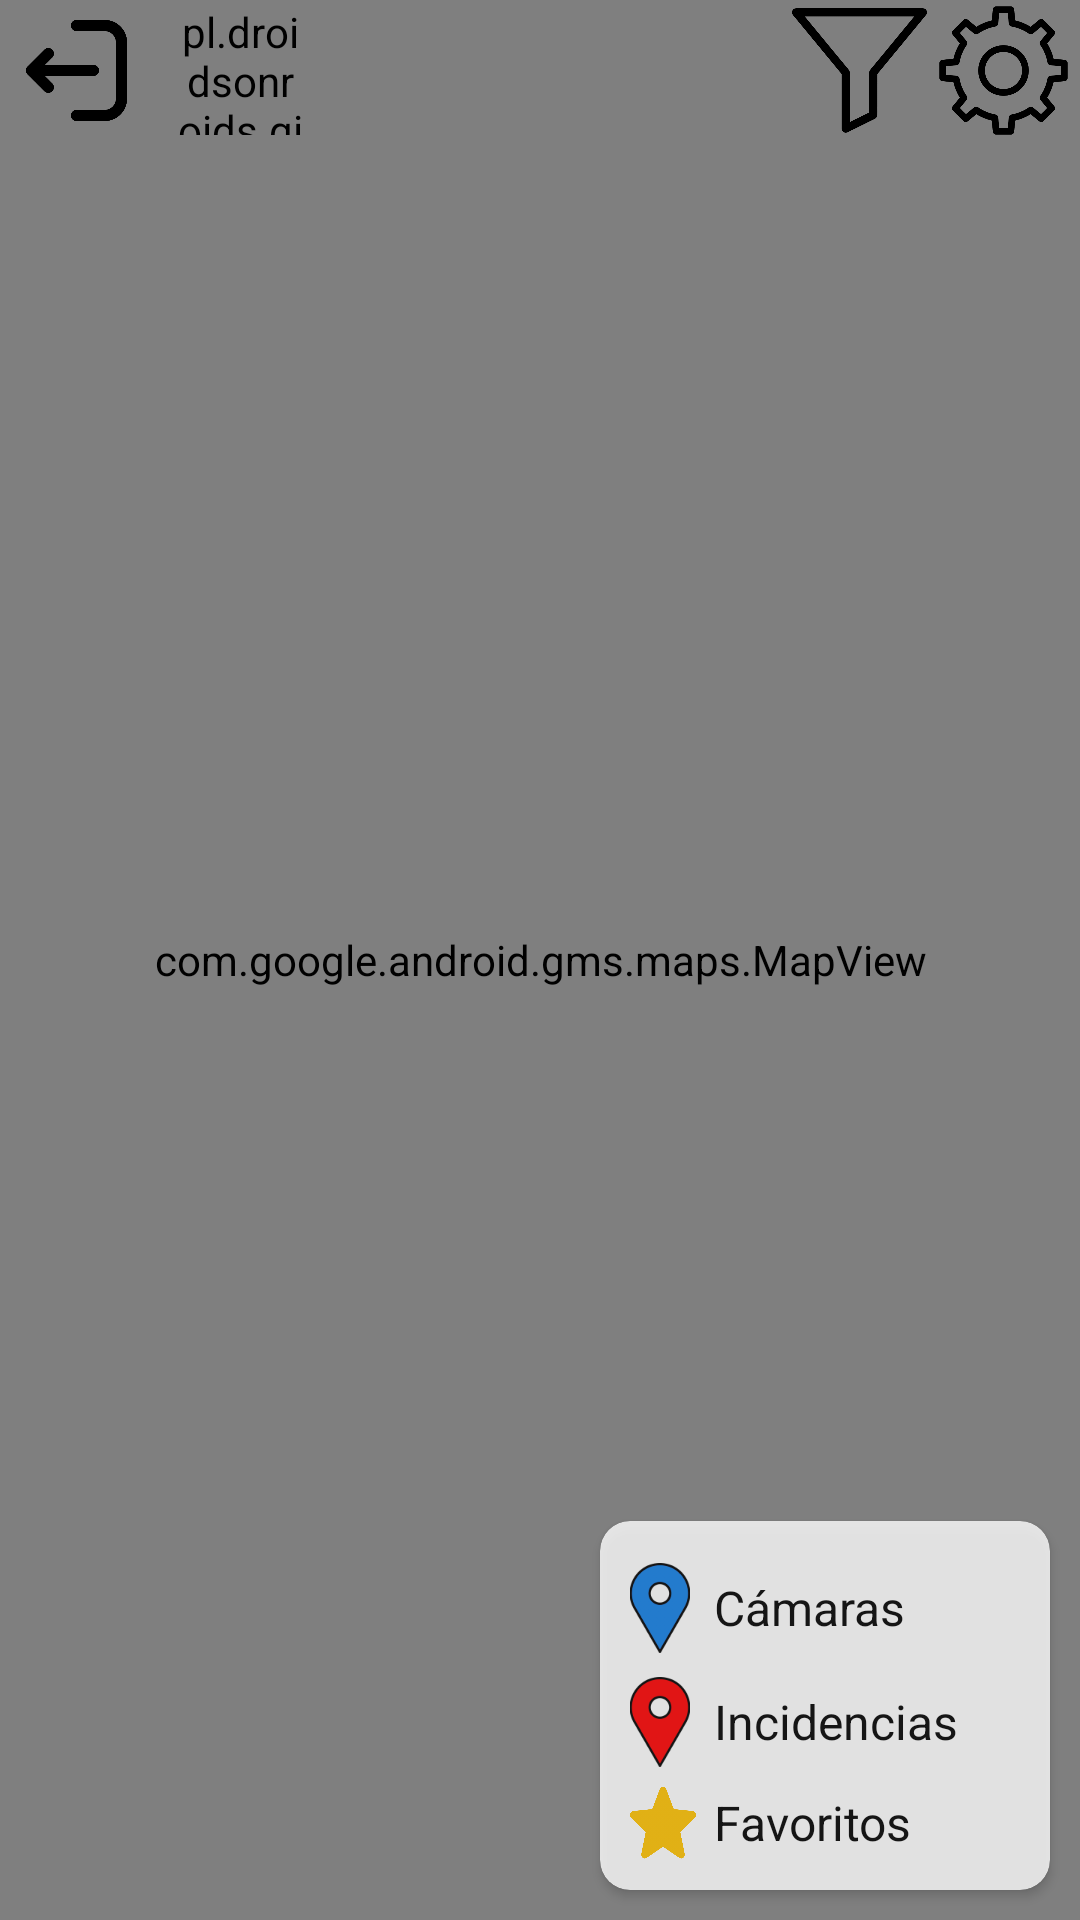

Point at icon controls on the screen. Image size 1080px x 1920px, points as point (x, y).
config: point (1003, 70)
fav seleccionado: point (663, 1823)
filtro: point (859, 70)
marcador camara: point (660, 1608)
marcador incidencia: point (660, 1722)
